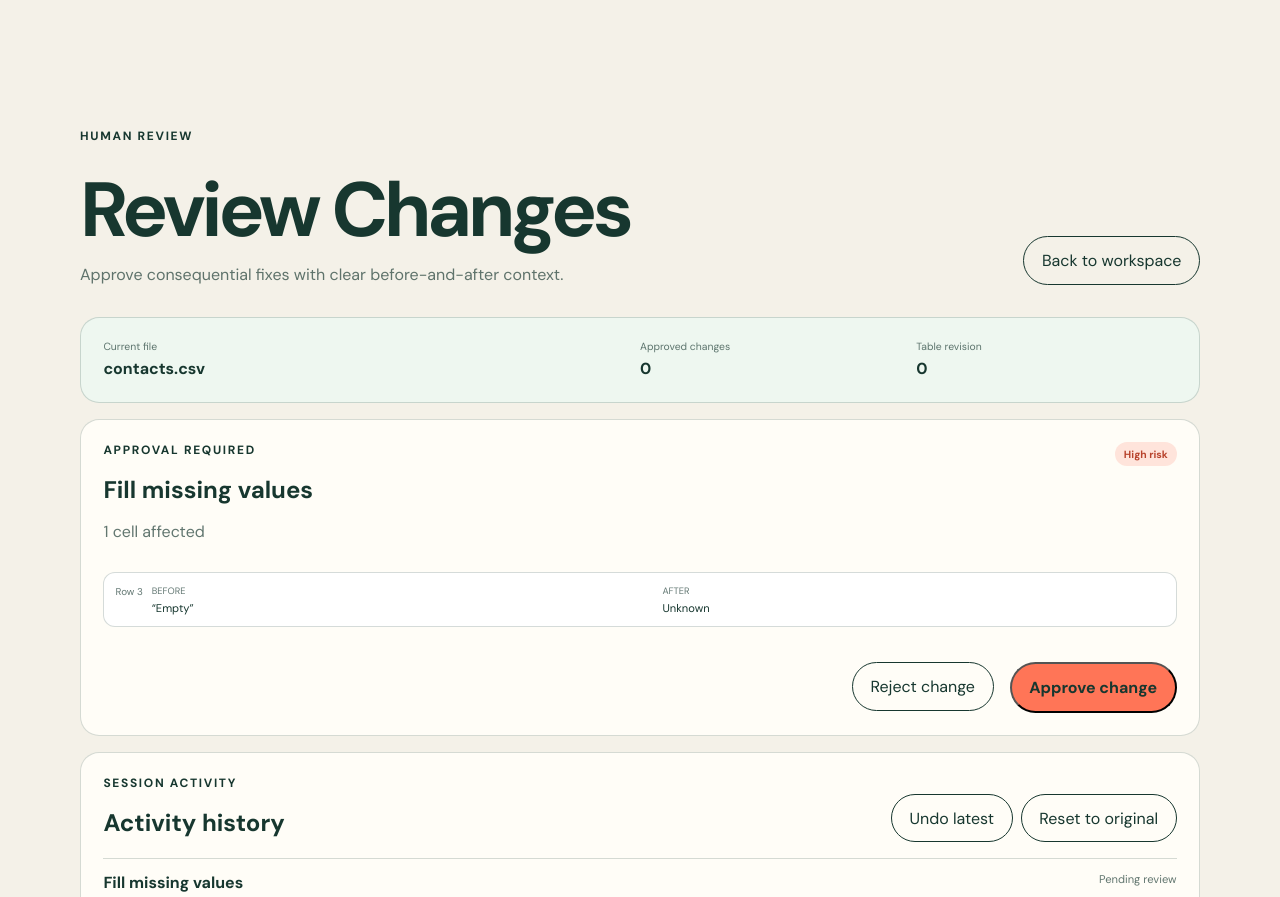
it: ReviewChangesPage › rejects without changing the table revision
The image size is (1280, 897).
Expected: the heading "Fill missing values" is shown, [103,474,313,505]
Click the button "Reject change".
click(923, 686)  # box [852,662,994,710]
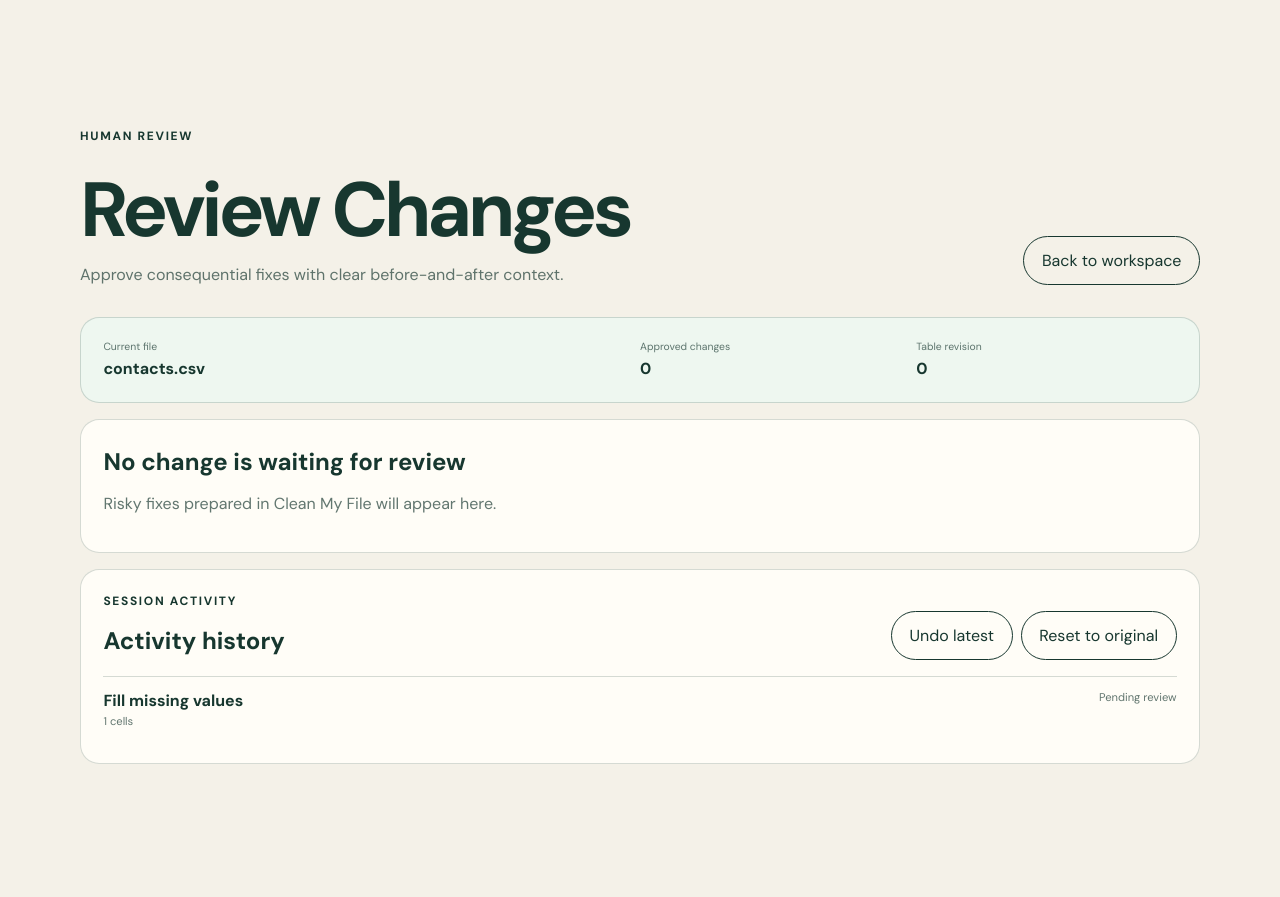
Now the heading "No change is waiting for review" is shown, box [103,446,466,477]
